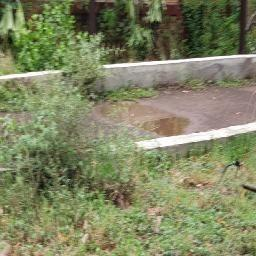water accumulation: (98, 101, 190, 137)
